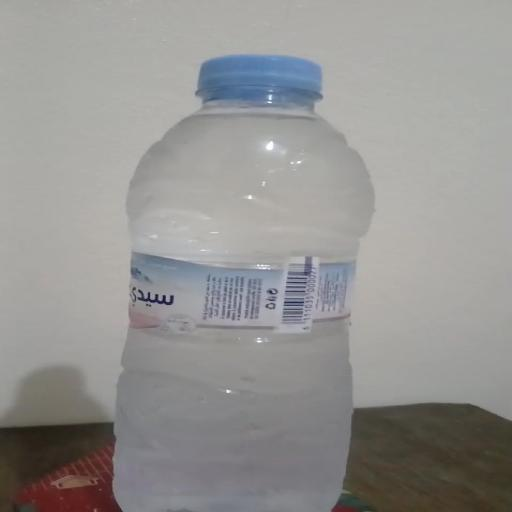bouteille conformite: (114, 48, 374, 511)
